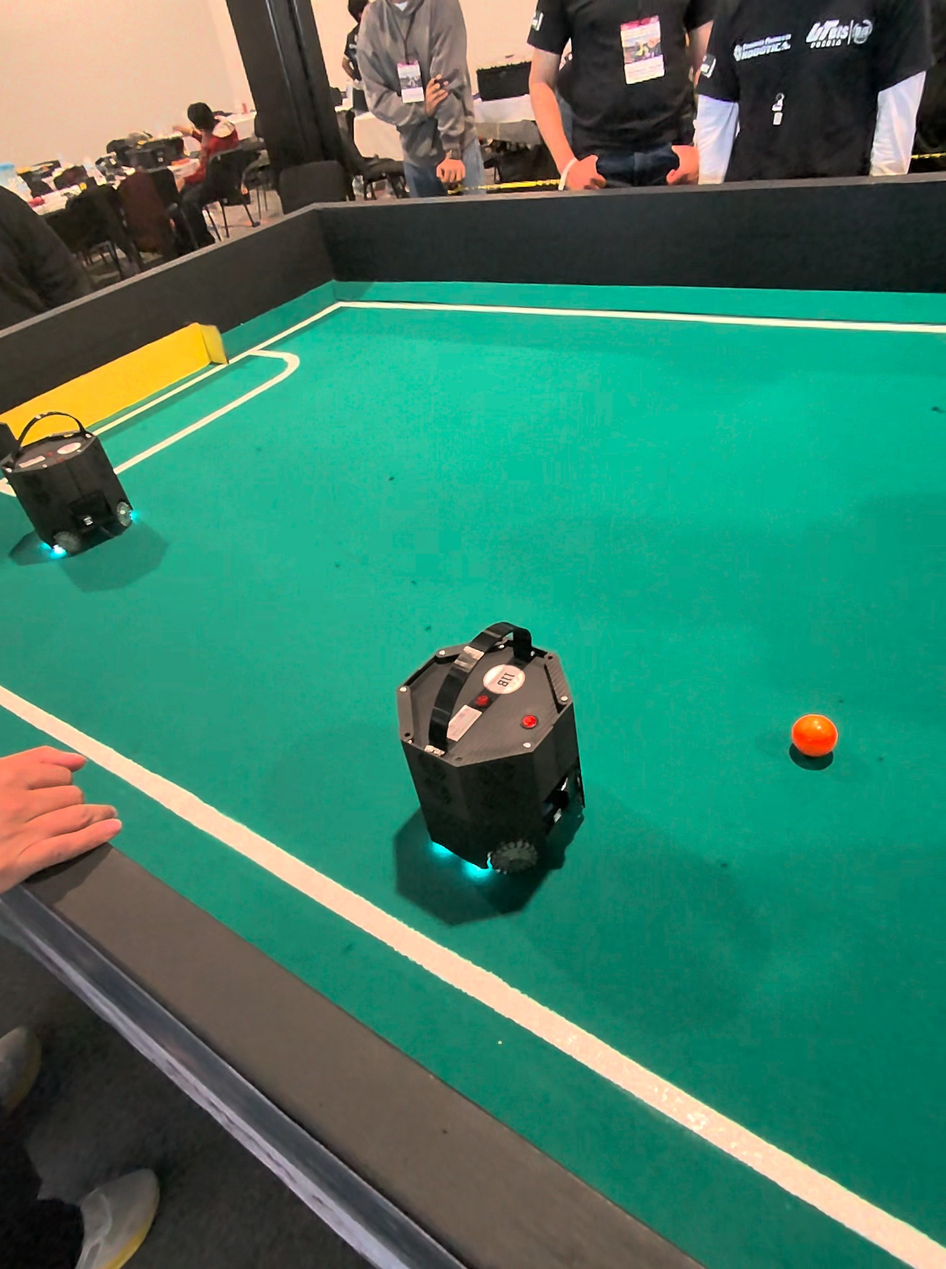Robot: (390, 609, 602, 920), (0, 409, 162, 584)
pelota: (790, 717, 841, 768)
